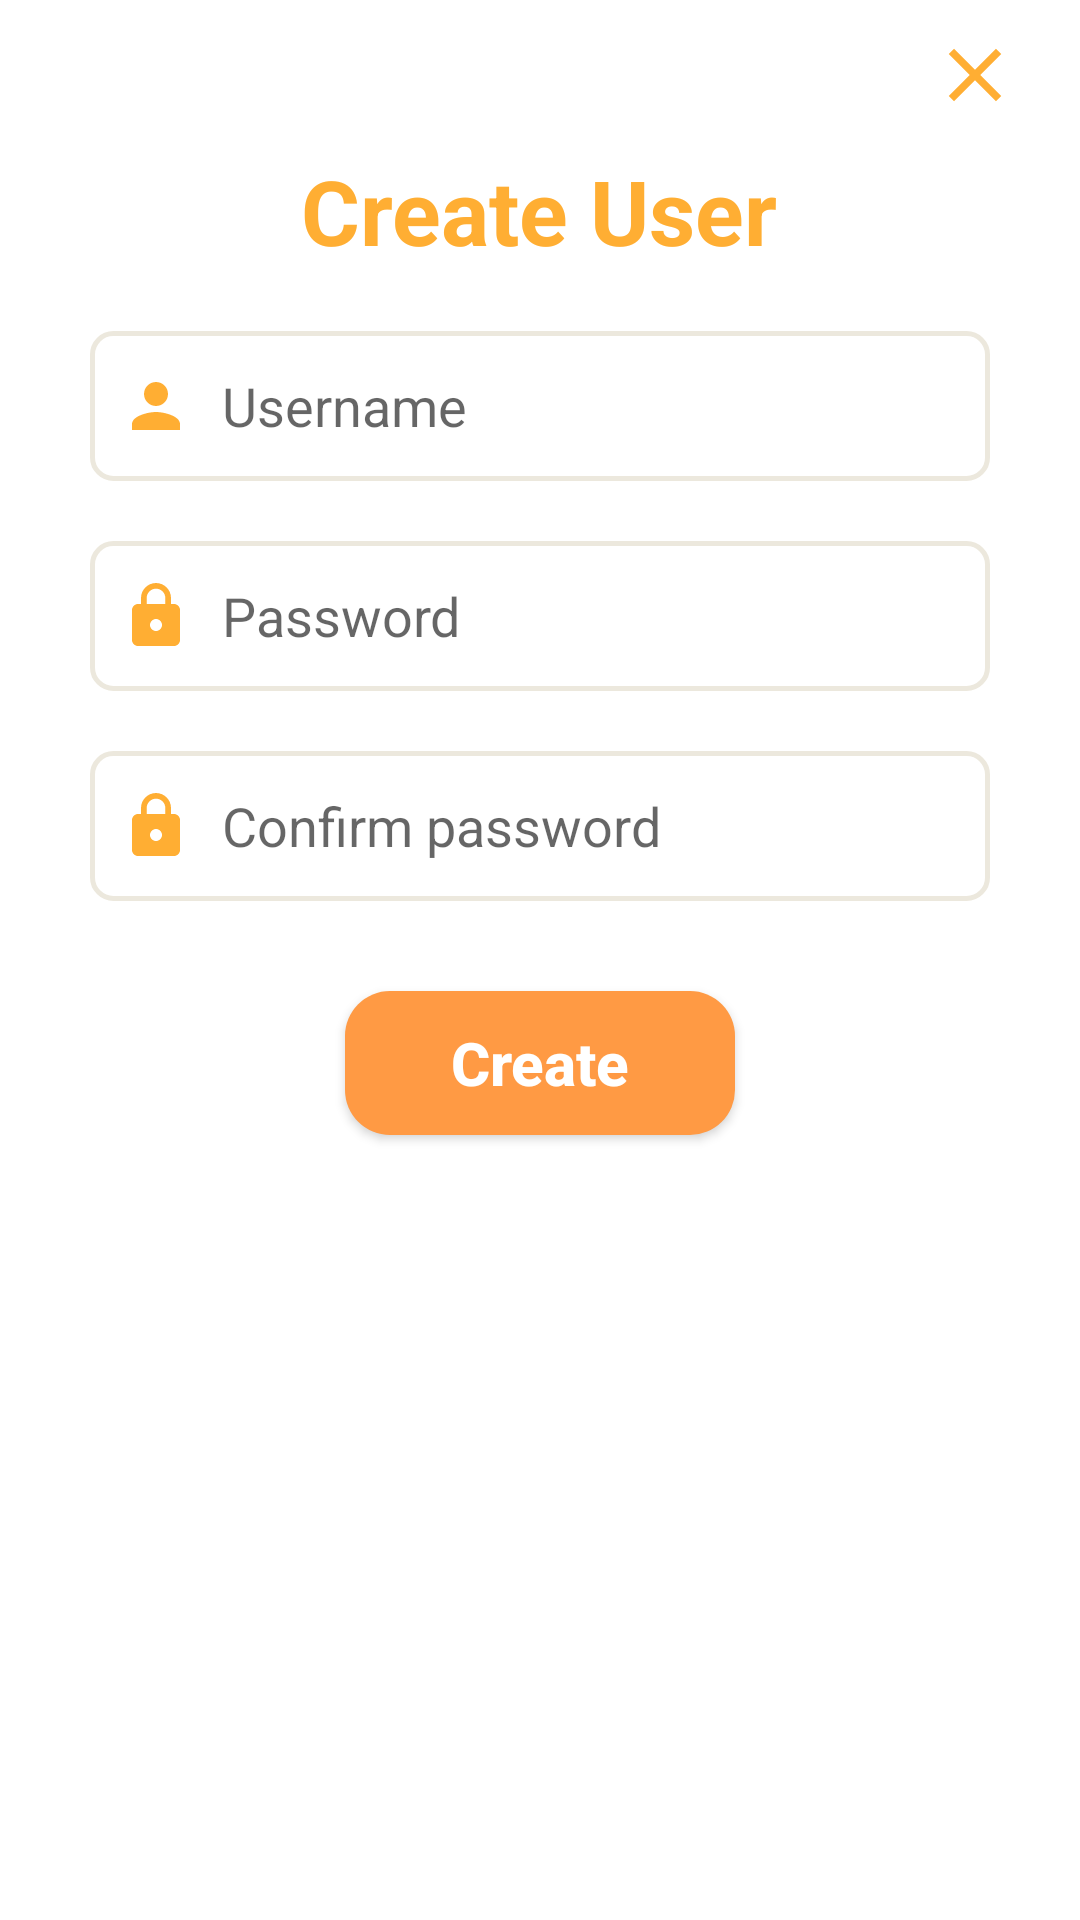

Named icons in this screenshot (1080px x 1920px) and their bounding boxes, bbox=[x1, y1, x2, y2]:
close: bbox=[949, 49, 1001, 101]
